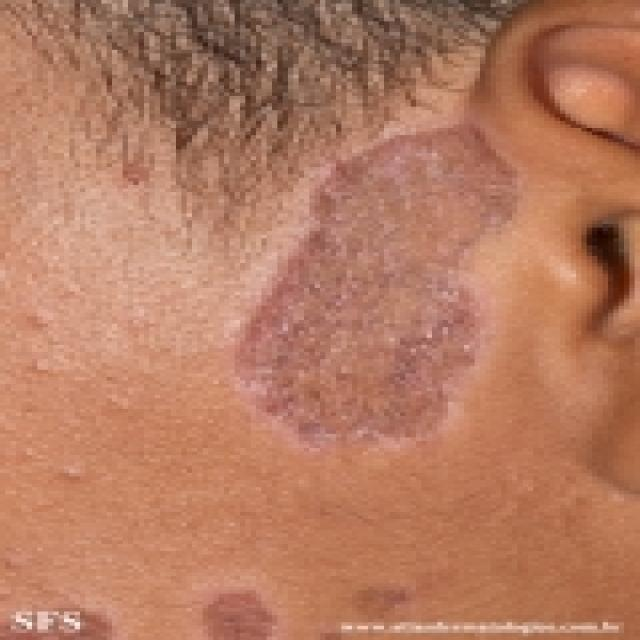lupus: (245, 119, 521, 486)
